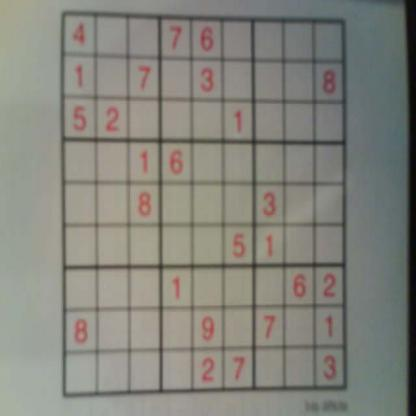sudoku: (57, 8, 352, 404)
